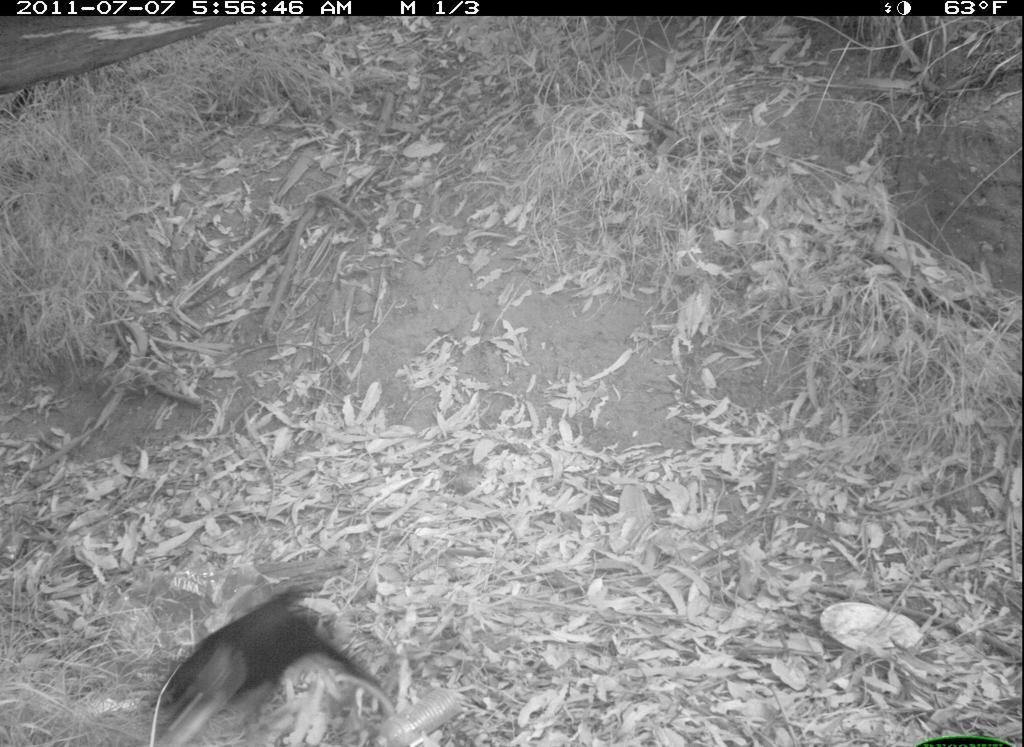dog: (135, 579, 396, 740)
